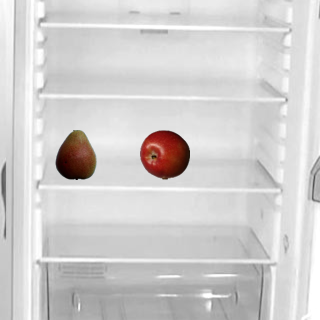Apple Braeburn: (139, 129, 189, 179)
Pear Forelle: (50, 129, 100, 179)
